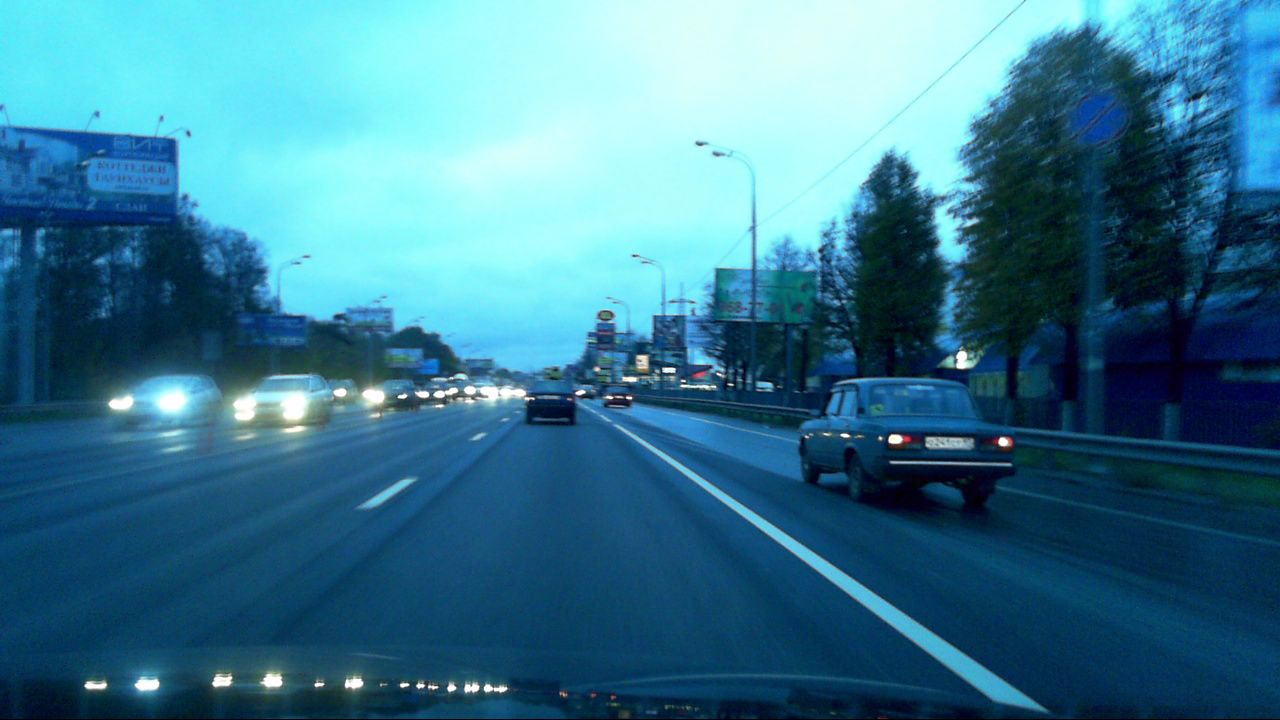No Parking: (1066, 87, 1129, 145)
